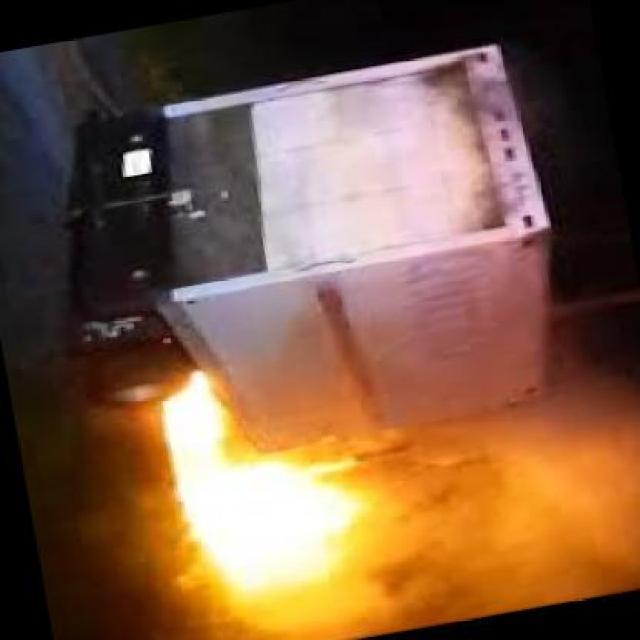Fire: (160, 374, 370, 586)
Smoke: (370, 402, 626, 604)
